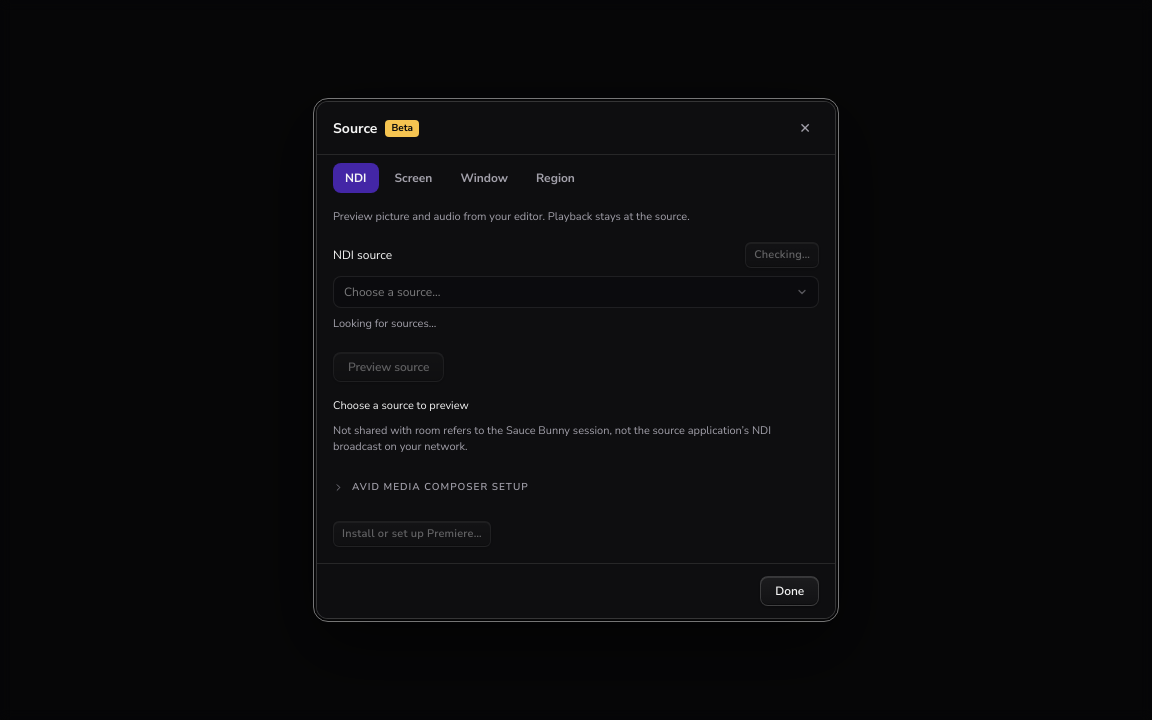
Scenario: one private source chooser › keeps the Screen Preview and close actions outside the scrolling fields
The width and height of the screenshot is (1152, 720).
Click the tab "Screen".
click(413, 178)  # box [382,163,444,193]
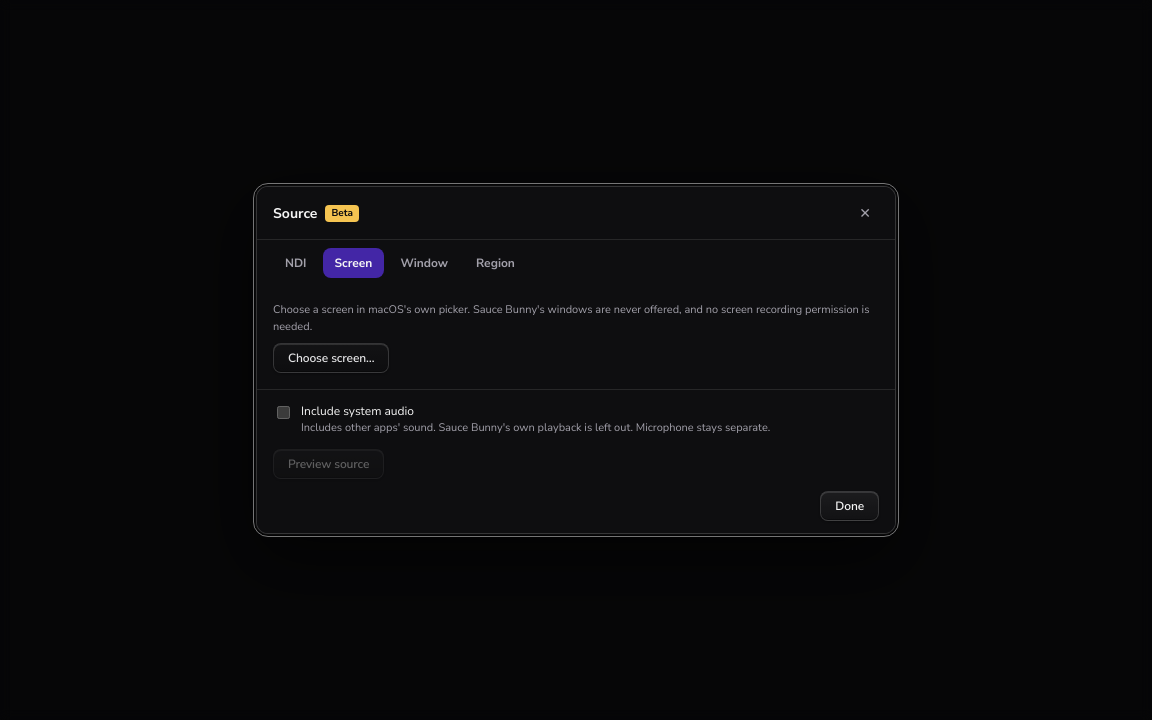
Click the button "Choose screen…".
click(331, 358)  # box [273,343,390,373]
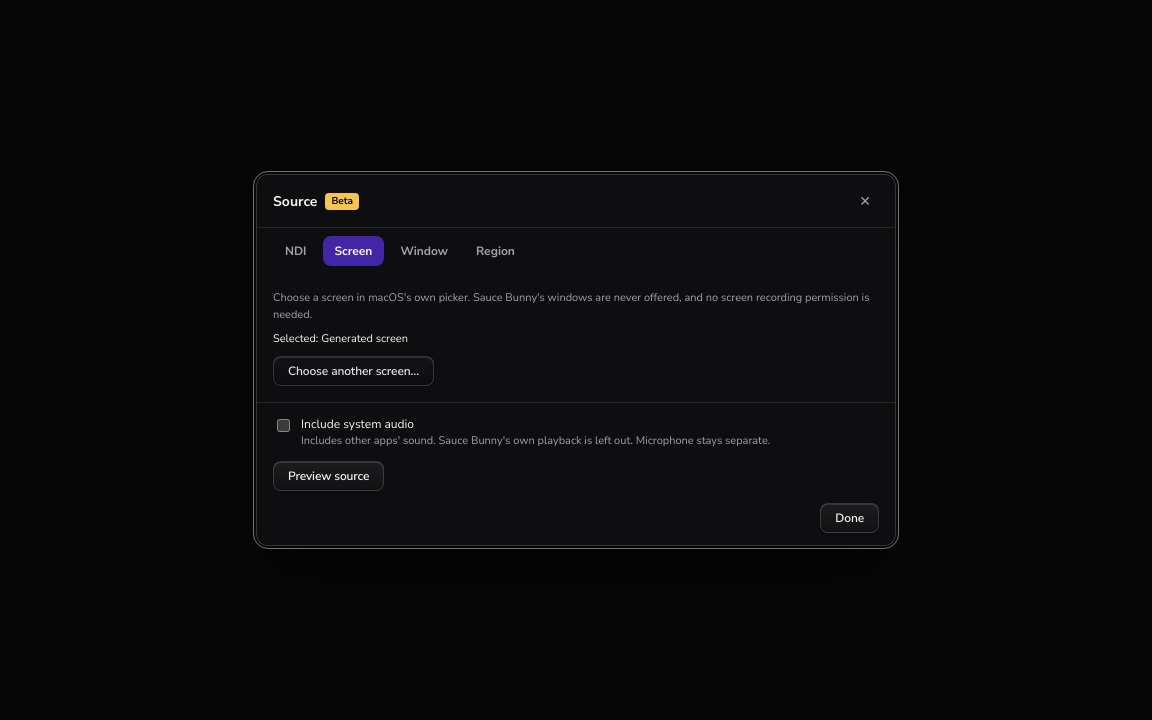
Expected: the footer is shown, [257,402,895,545]
Result: the number of buttons "Preview source" is 1 at [273,461,384,491]
Result: the message named "Selected screen" is shown at [273,331,408,346]
